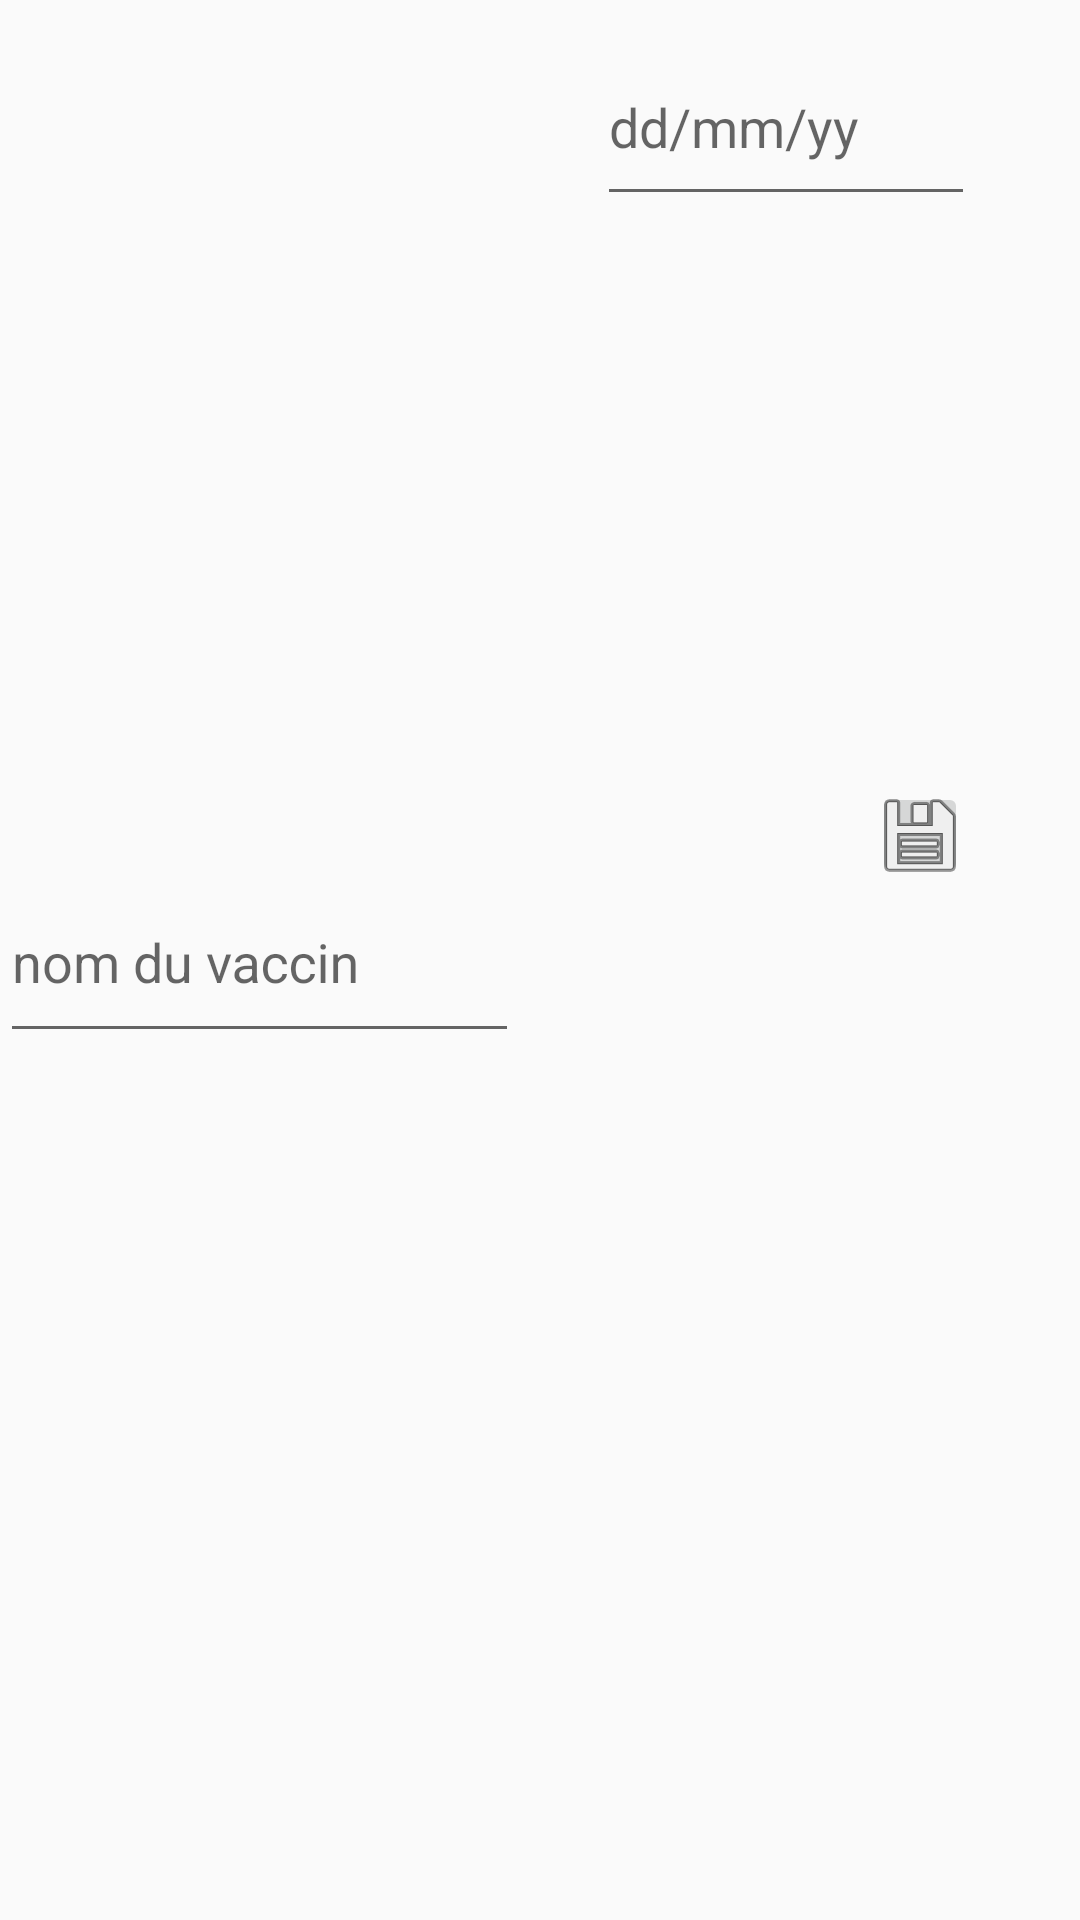

Icons on this 1080×1920 Android screen, each with its box as (x1, y1, x2, y2):
save: (884, 799, 956, 872)
